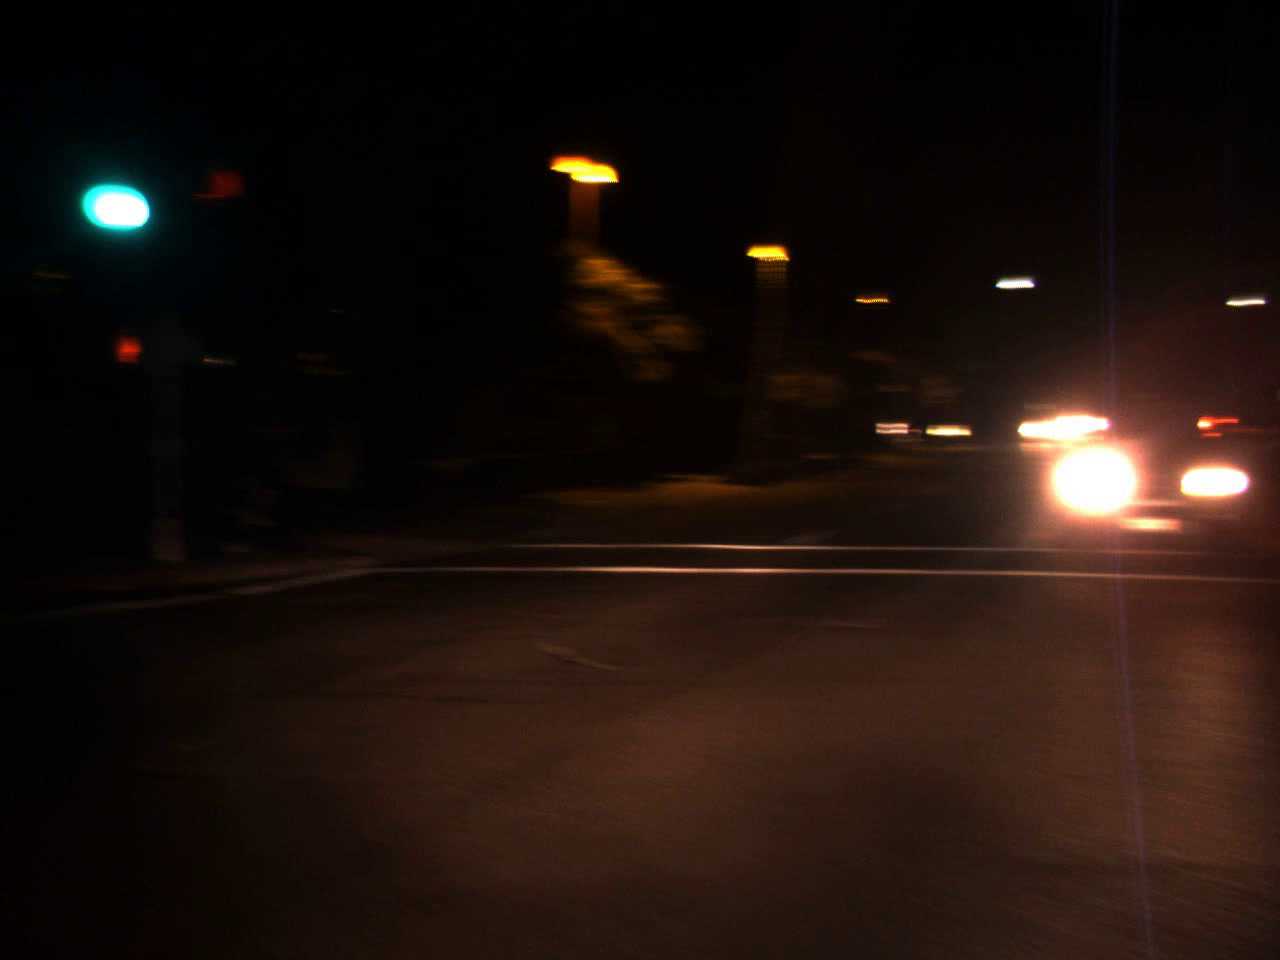go: (62, 130, 164, 244)
